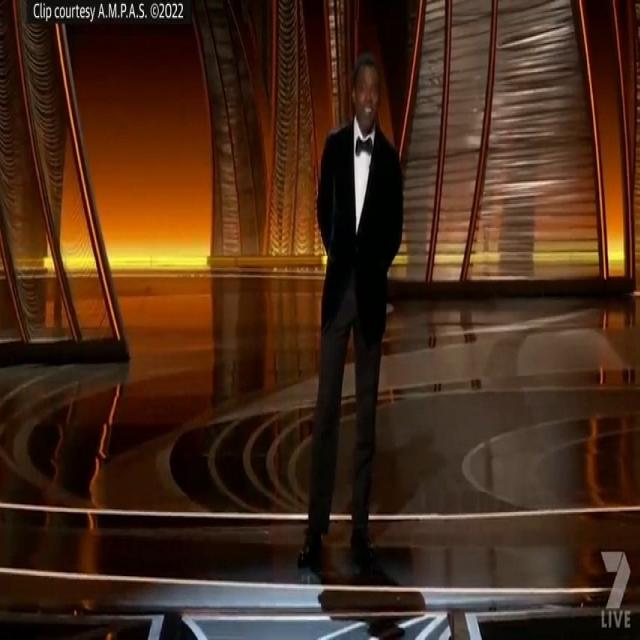non-fight: (294, 40, 408, 576)
